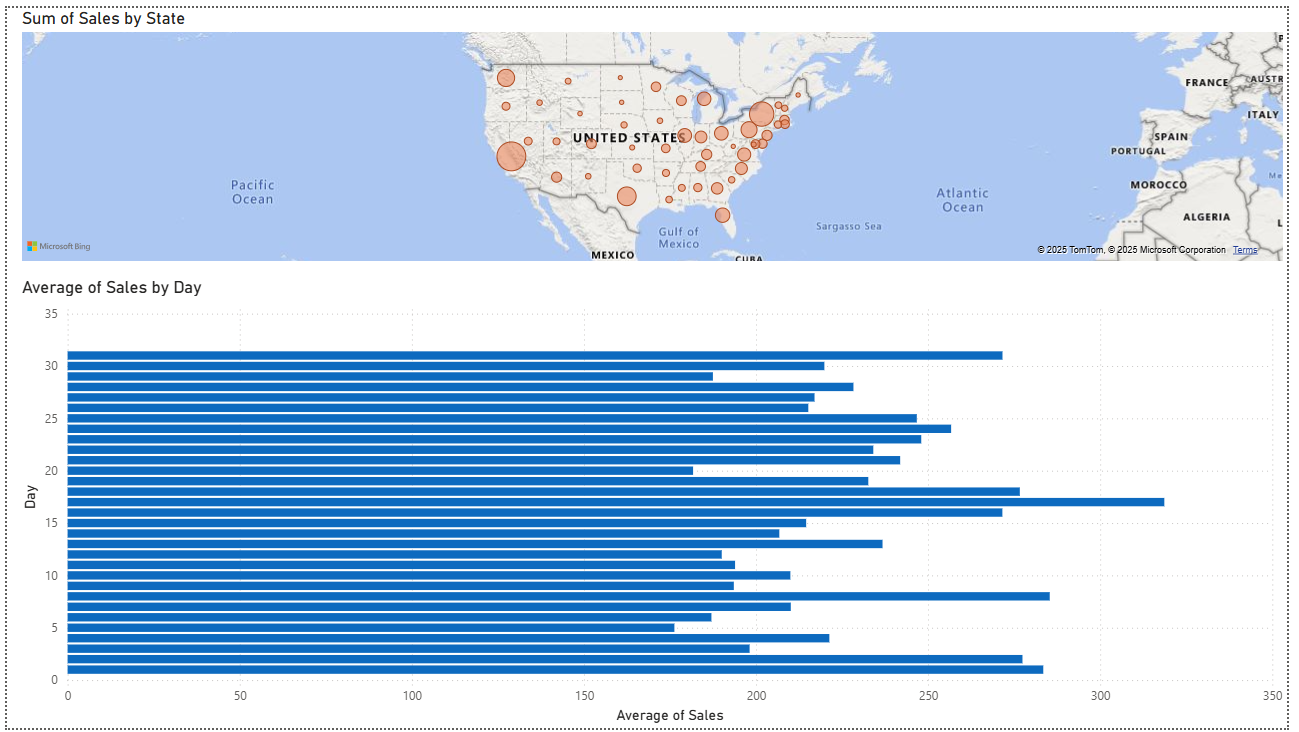

The dashboard page shown, as its layout file describes it:
{"tool":"powerbi","page":{"name":"Page 2","canvas":[1280,720],"ordinal":1},"visuals":[{"type":"map","fields":{"Category":["Orders (2).State"],"Size":["Sum(Orders (2).Sales)"]},"box":[9.8,0,1270.5,258],"z":0},{"type":"clusteredBarChart","fields":{"Y":["Avg(Orders (2).Sales)"],"Category":["Orders (2).Order Date.Variation.Date Hierarchy.Day"]},"box":[9.8,269,1270.5,451.2],"z":1000}]}

Visuals, with their boxes in screenshot pixels (x1, y1, x2, y2), scaled from the page's 1280x720 canvas onto the 1299x732 screenshot:
map - Orders (2).State x Sum(Orders (2).Sales): rect(10, 0, 1298, 262)
clusteredBarChart - Avg(Orders (2).Sales) x Orders (2).Order Date.Variation.Date Hierarchy.Day: rect(10, 273, 1298, 731)
